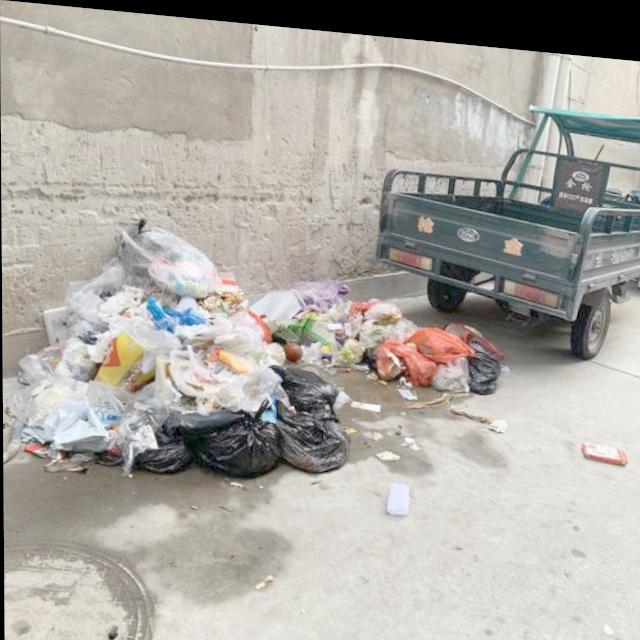garbage: (1, 205, 506, 515), (578, 428, 627, 453)
